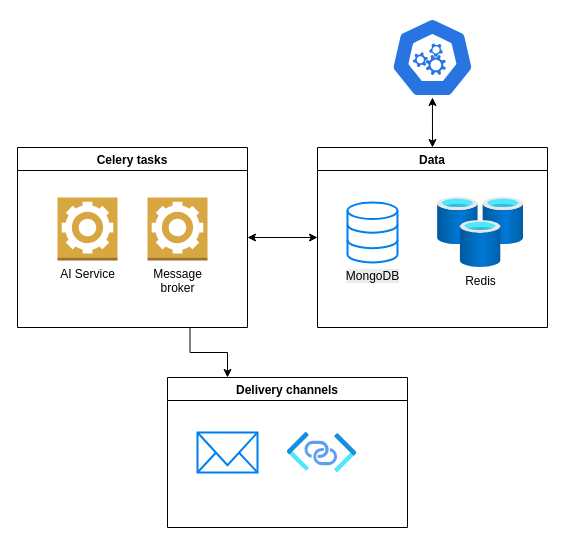
Some shapes in this 565 by 545 pixel diagram are drawn without their labels. Each missing label, with the centre of its shape:
"Email" belongs at (227,452).
"Flask API" belongs at (432,57).
"Webhooks" belongs at (321,452).
